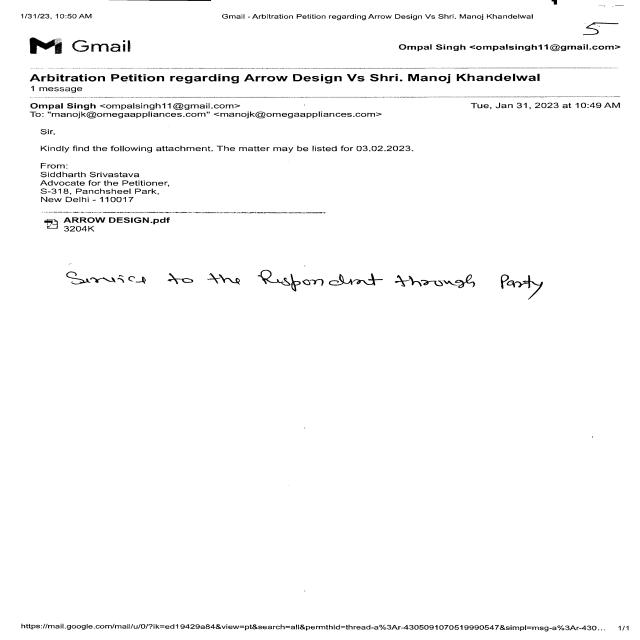page-number: (537, 0, 640, 43)
